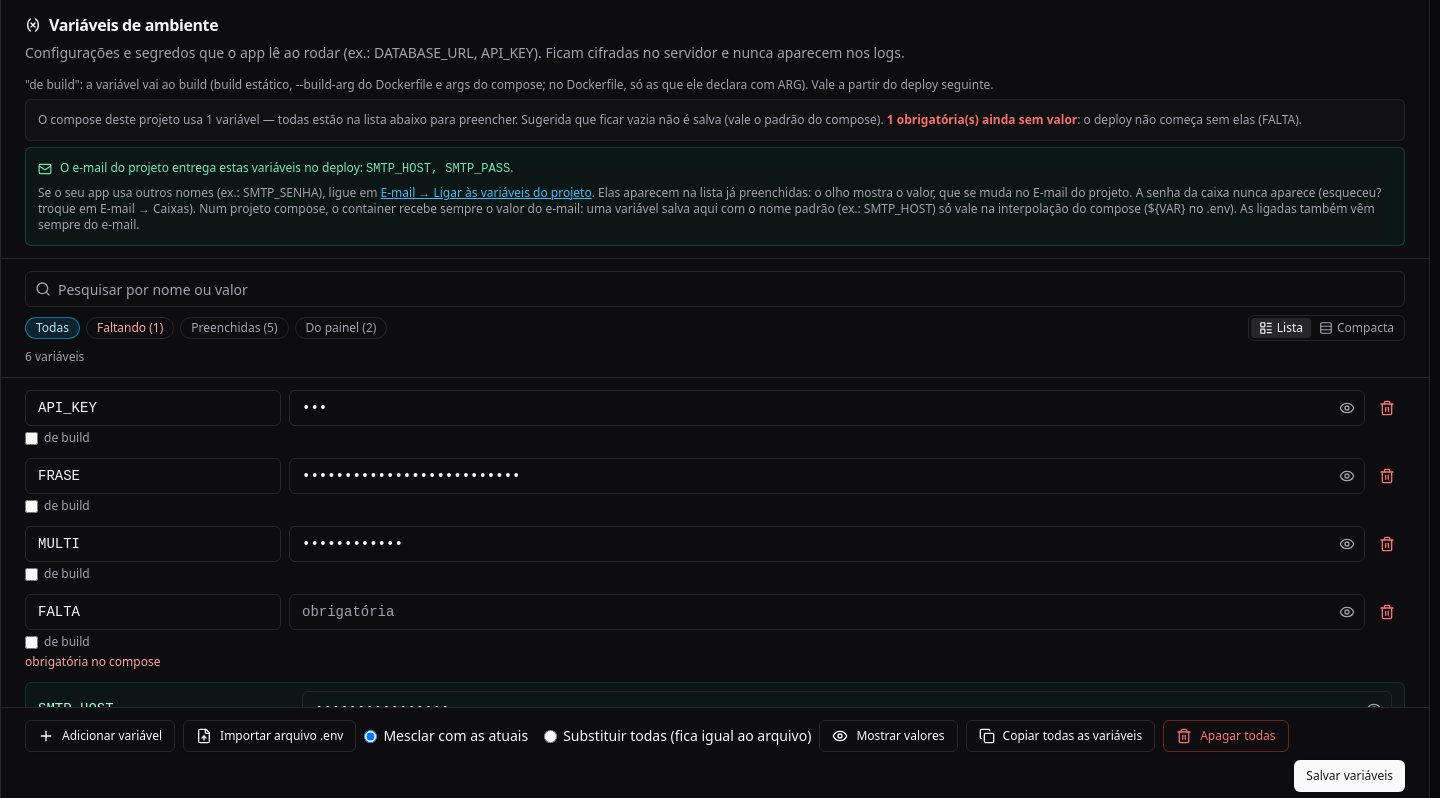
Scenario: Copiar todas as variáveis › falha do clipboard mostra mensagem clara
The width and height of the screenshot is (1440, 798).
Expected: the password field showing "abc" is shown, [289, 390, 1365, 426]
Click the button "Copiar todas as variáveis" at (1060, 736), box [966, 720, 1155, 752]
(page scrolled)
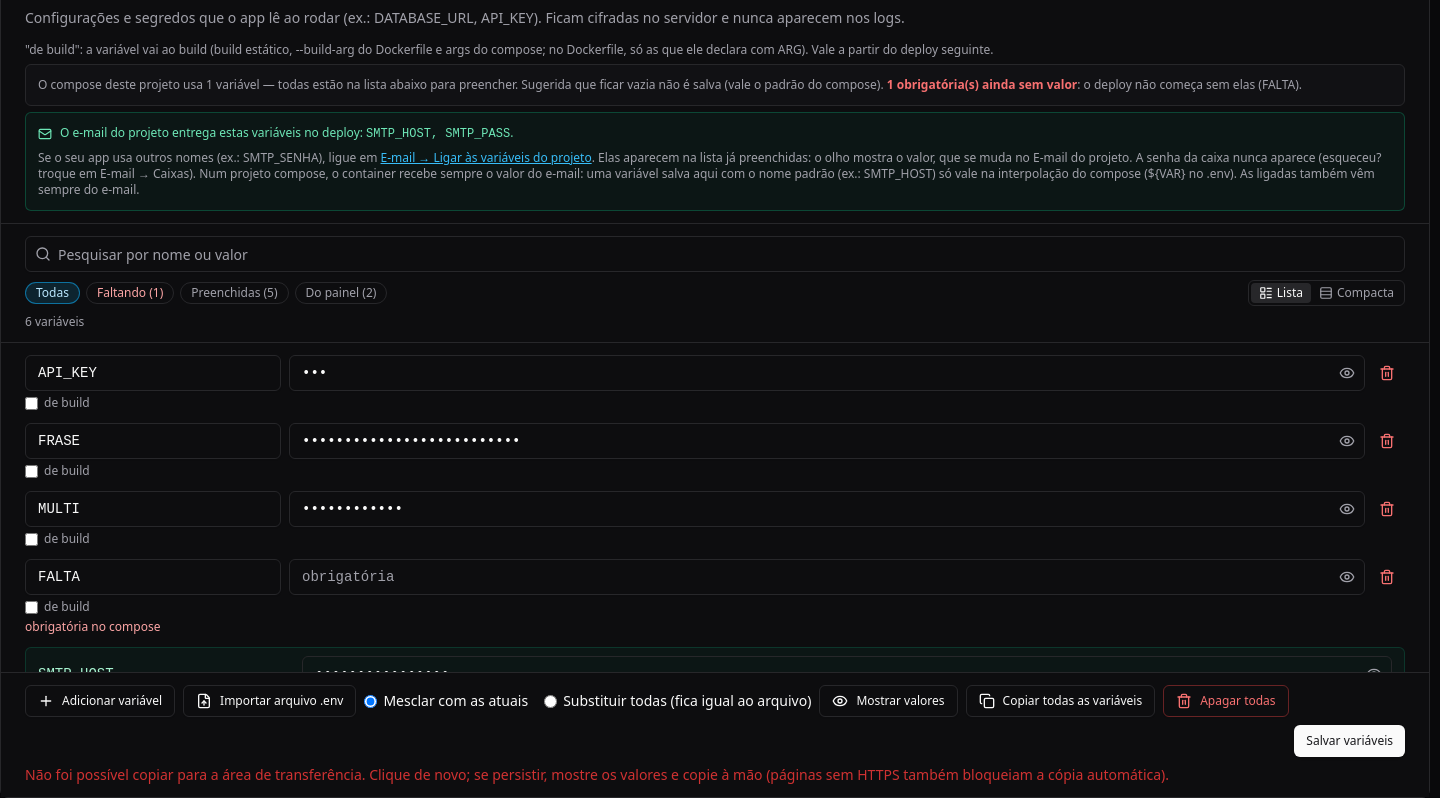
Expected: the text "Não foi possível copiar para a área de transferência" is shown, [25, 765, 1169, 784]
